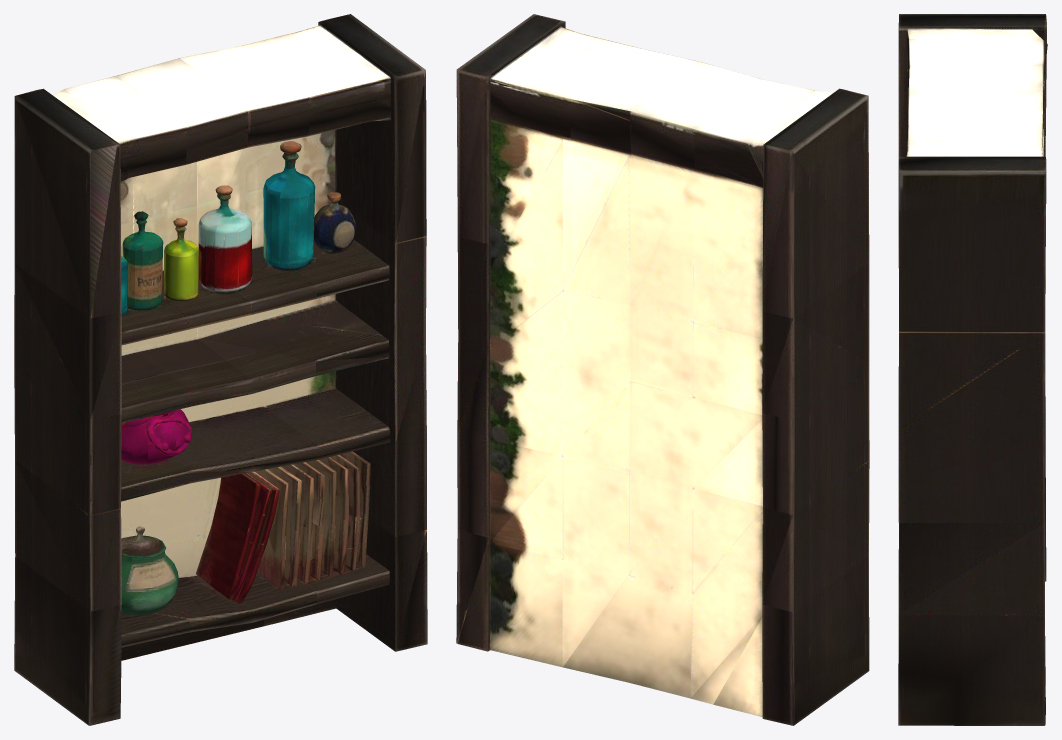
Rendered from potion-shelf.glb.
3 views of the same model, side by side, from view 1: azimuth 30°, elevation 25°; view 2: azimuth 150°, elevation 25°; view 3: azimuth 270°, elevation 25° (orthographic). The views are drawn at different scales.
Bounding box in the file's own units: 1.11 × 1.8 × 0.4404.
1 material, 1 textured.
